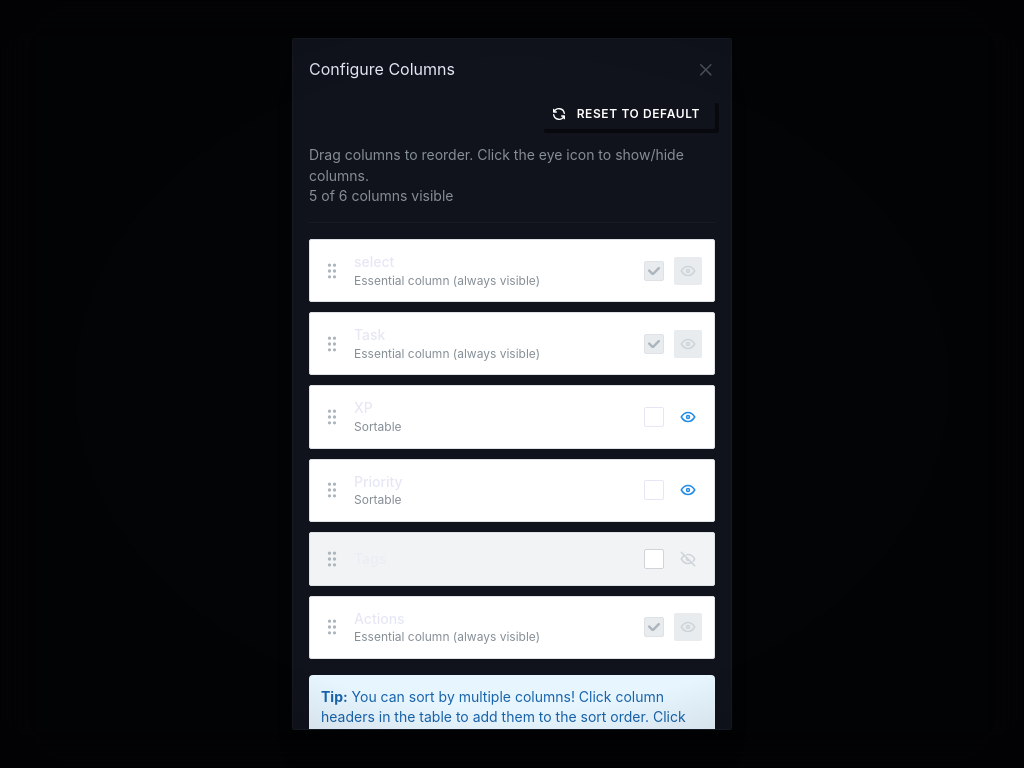
Scenario: ColumnConfigDialog › toggles column visibility
Click the checkbox in the row of "Tags" at (654, 559), box [644,549,664,569]
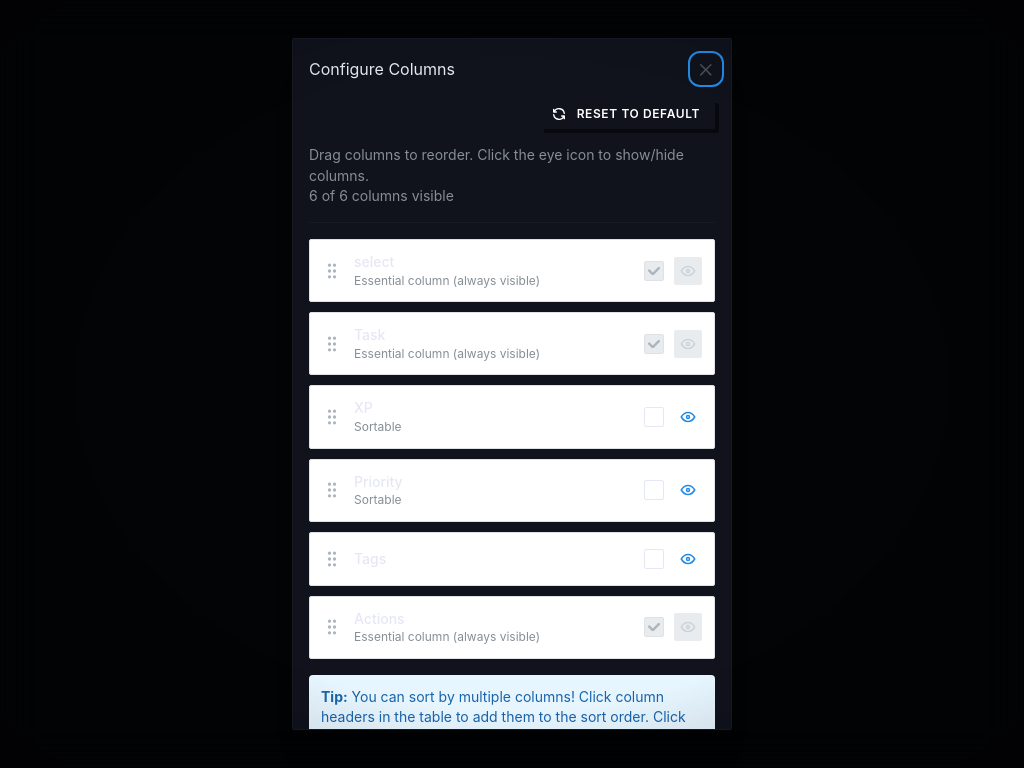
Expected: the text "6 of 6 columns visible" is shown, [309,145,715,206]
